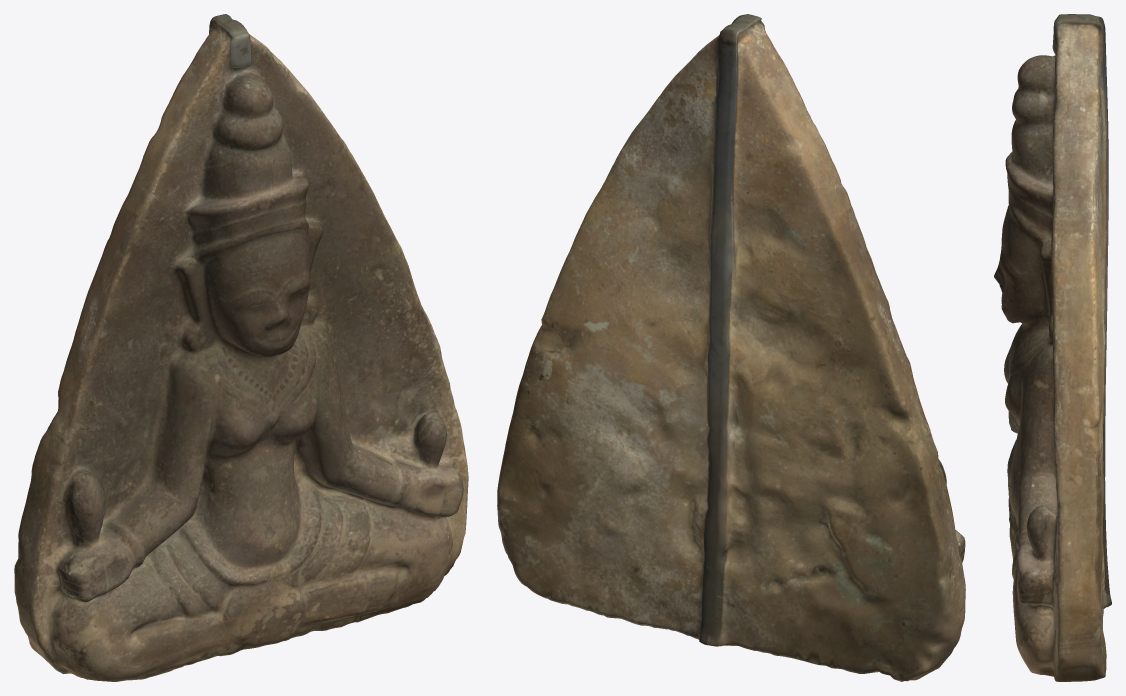
Rendered from 27_laskmi_final.glb.
3 renders of one model, left to right at view 1: azimuth 30°, elevation 25°; view 2: azimuth 150°, elevation 25°; view 3: azimuth 270°, elevation 25°, orthographic. The views are drawn at different scales.
Bounding box in the file's own units: 0.4382 × 0.5803 × 0.1059.
1 material, 1 textured.
